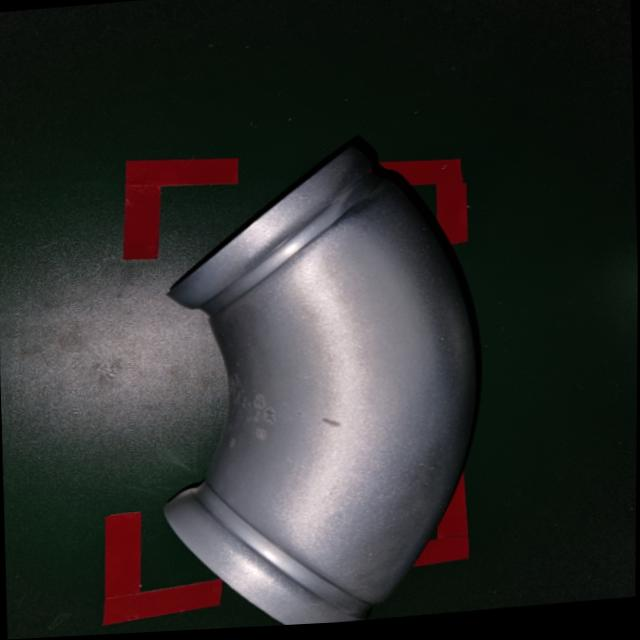Defect: (134, 133, 499, 634)
Hole: (214, 361, 349, 463)
